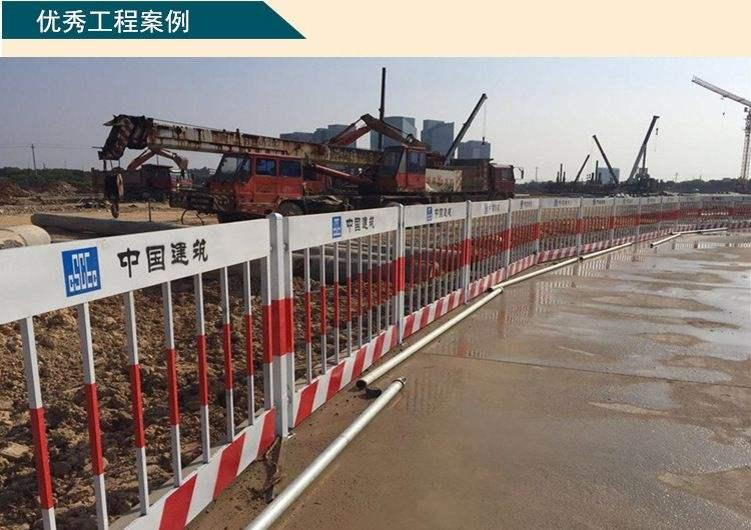sign: (3, 214, 330, 516), (332, 198, 472, 359)
